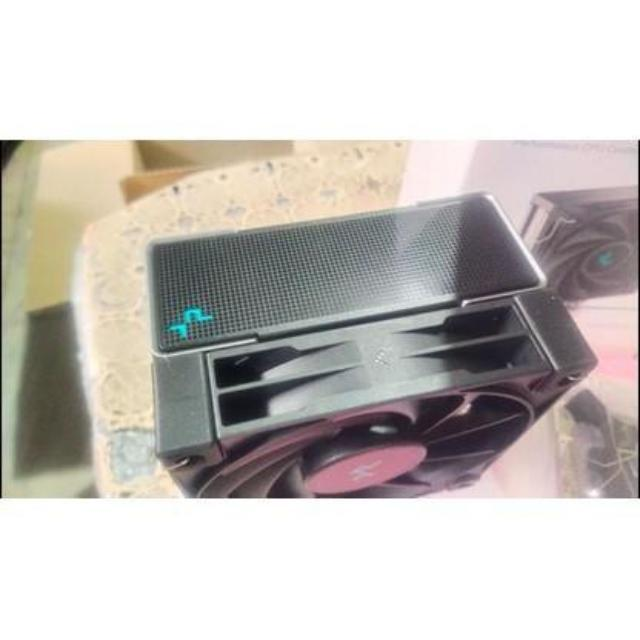CPU_Fan: (145, 188, 602, 510)
